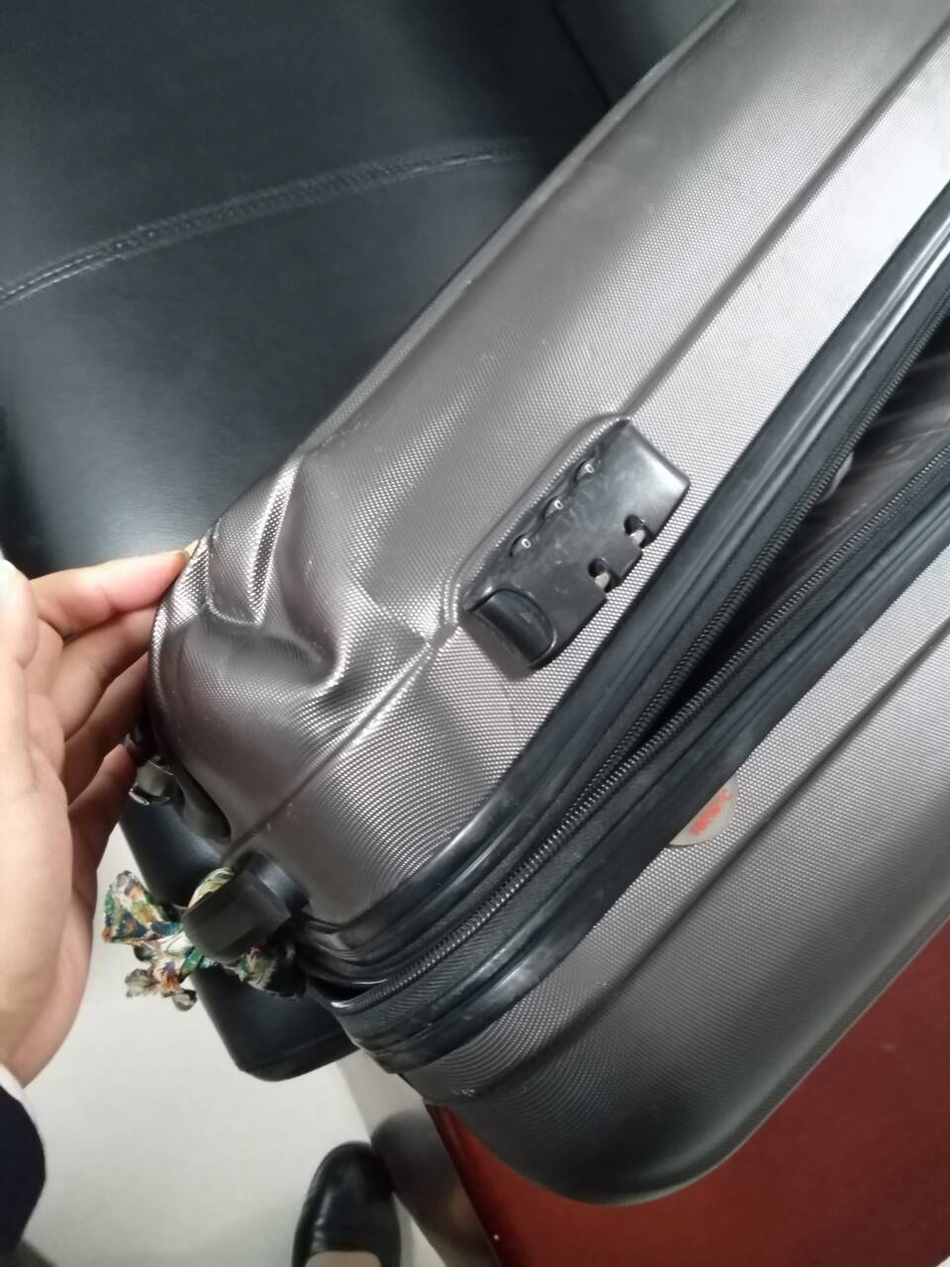rupture: (148, 451, 366, 705)
